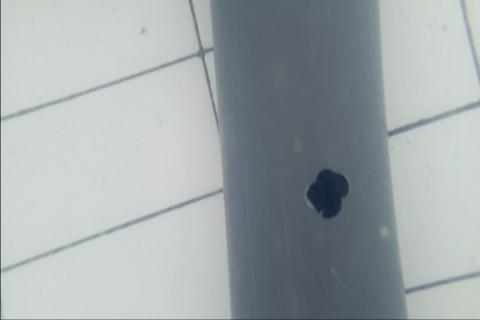kebocoran: (304, 167, 350, 221)
